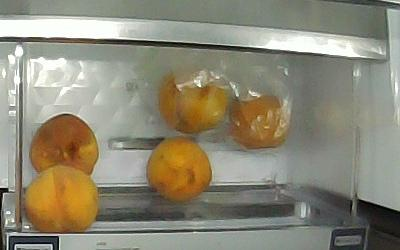peach: (24, 164, 98, 232), (29, 114, 99, 176), (146, 137, 212, 201)
peach_vinyl: (158, 65, 228, 134), (228, 94, 288, 148)
